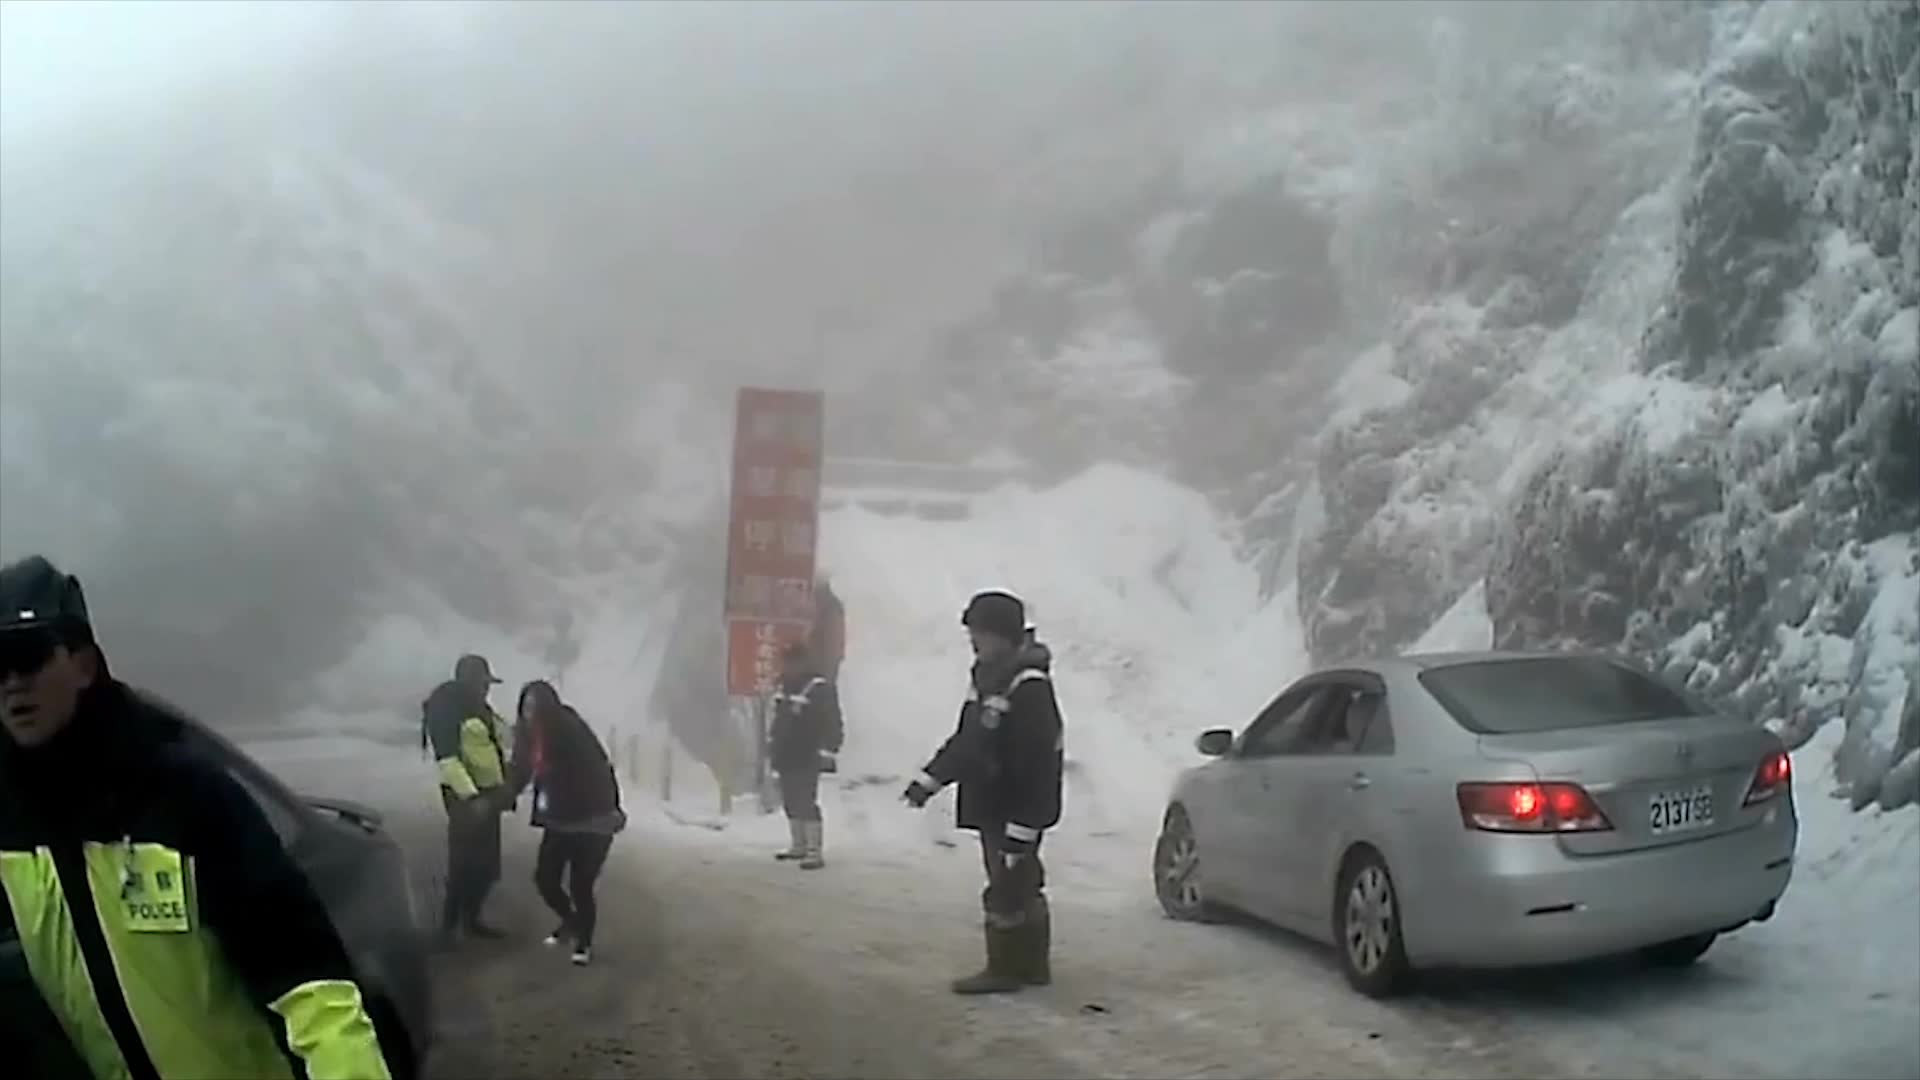pedestrian: (1, 558, 386, 1080), (899, 586, 1067, 998), (493, 679, 628, 963), (415, 655, 528, 939), (764, 636, 844, 870), (787, 564, 849, 743)
vehicle: (1147, 648, 1798, 998), (0, 664, 429, 1079)
